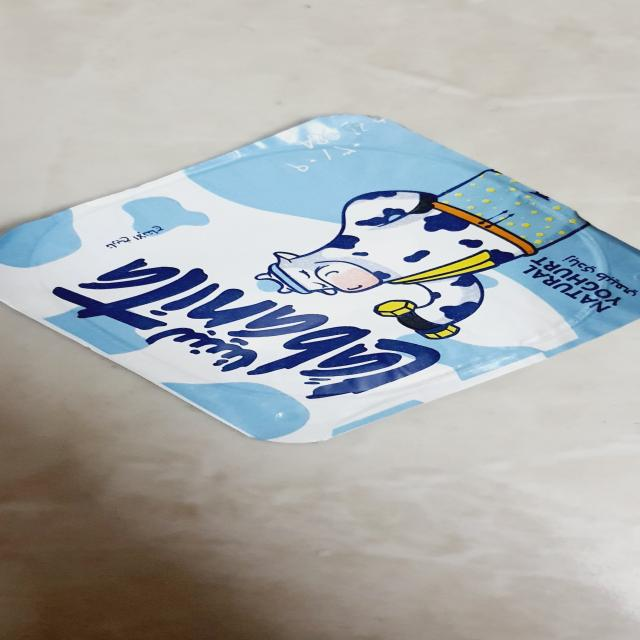Metal: (0, 112, 640, 444)
